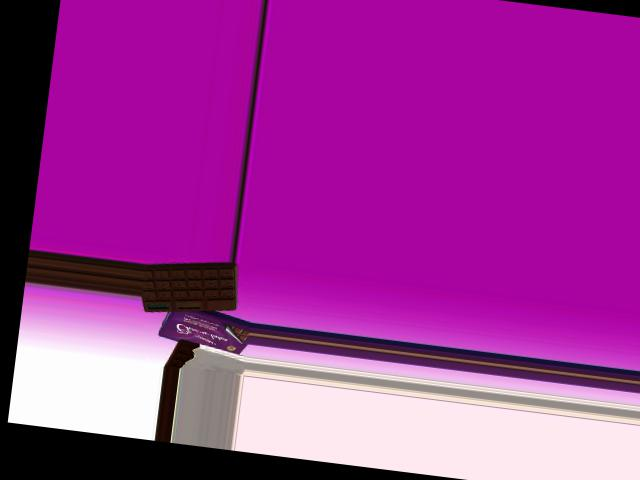chocolate: (143, 251, 240, 324)
